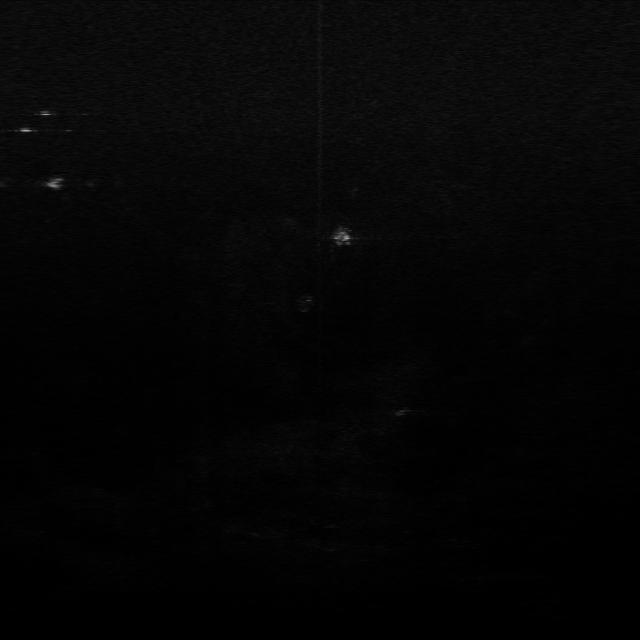rov: (43, 174, 66, 192)
